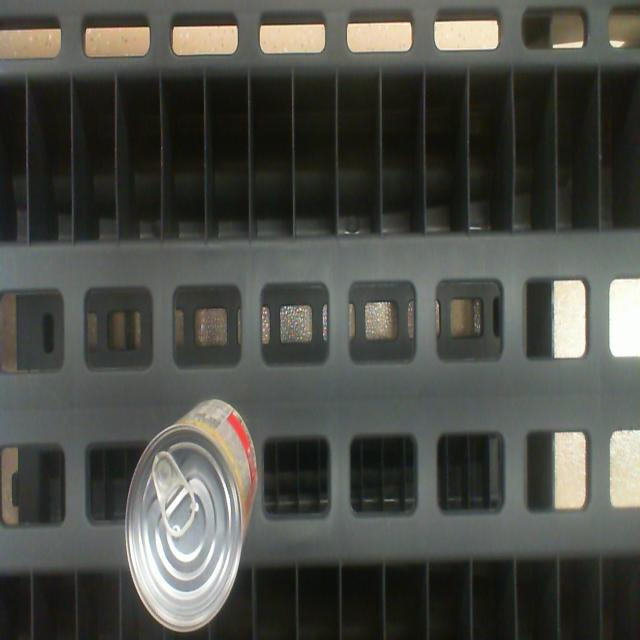can: (127, 425, 242, 628)
